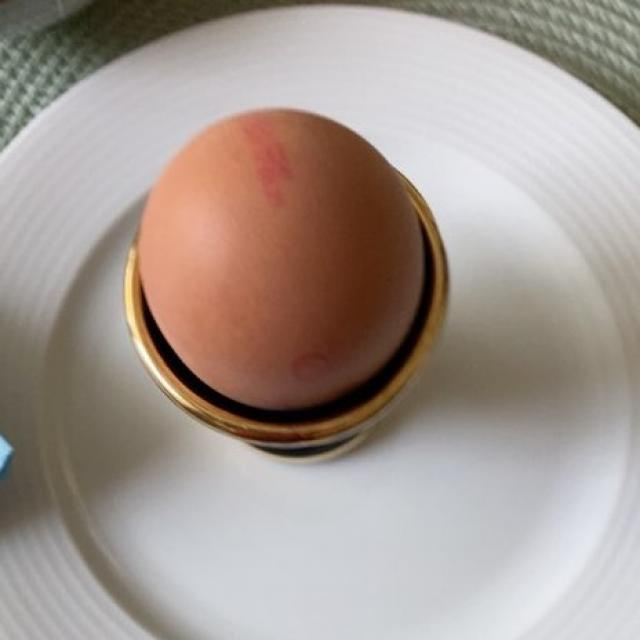egg: (138, 113, 428, 410)
